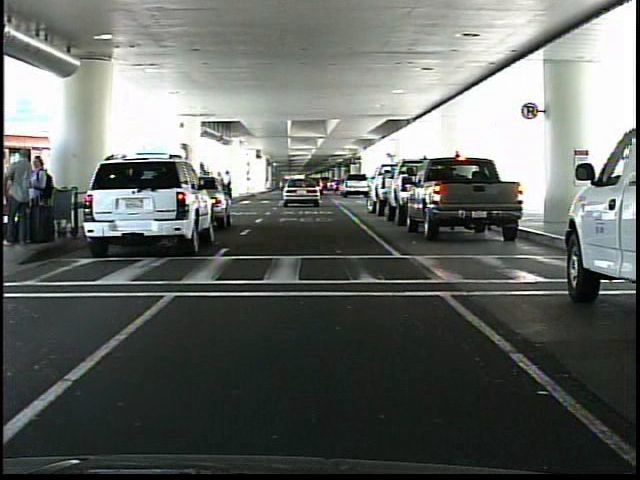person: (6, 148, 39, 246), (27, 157, 56, 247)
